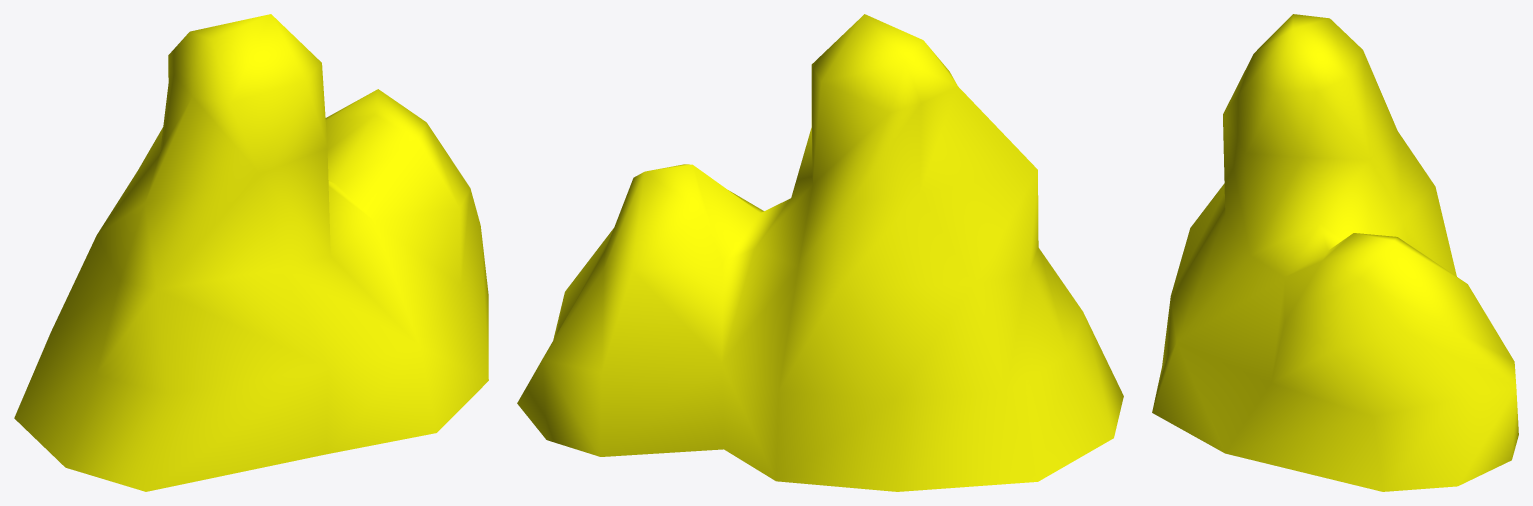
Rendered from general_obj_bigstone08.glb.
3 renders of one model, left to right at view 1: azimuth 30°, elevation 25°; view 2: azimuth 150°, elevation 25°; view 3: azimuth 270°, elevation 25°, orthographic. The views are drawn at different scales.
Parts seen in each view (by area): view 1: Sphere01; view 2: Sphere01; view 3: Sphere01.
Part boxes in pixels (bbox=[...]): Sphere01: bbox=[14, 14, 488, 491]; Sphere01: bbox=[517, 14, 1123, 491]; Sphere01: bbox=[1152, 14, 1518, 491].
Bounding box in the file's own units: 23.18 × 17.16 × 16.53.
Materials: 1 (1 with a texture image).
